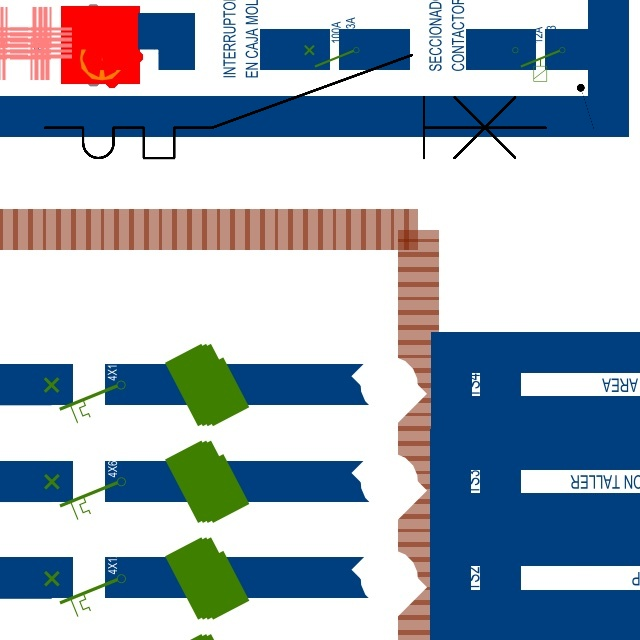interruptor_termomagnetico: (32, 42, 558, 171)
